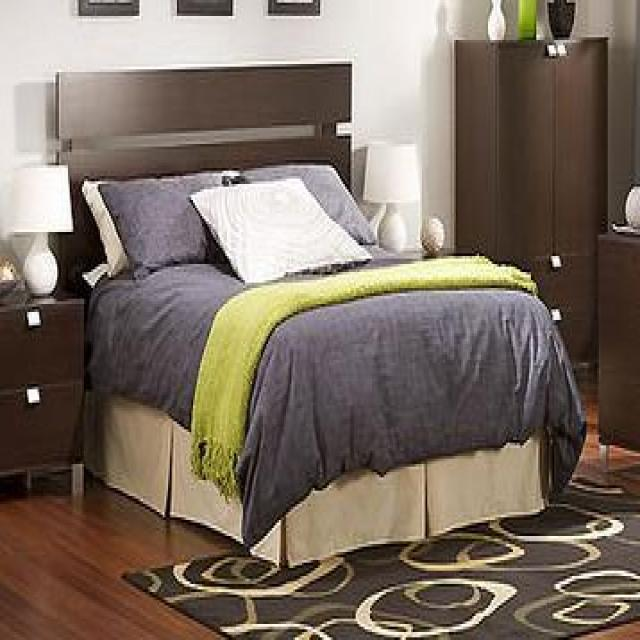bed: (54, 59, 586, 568)
